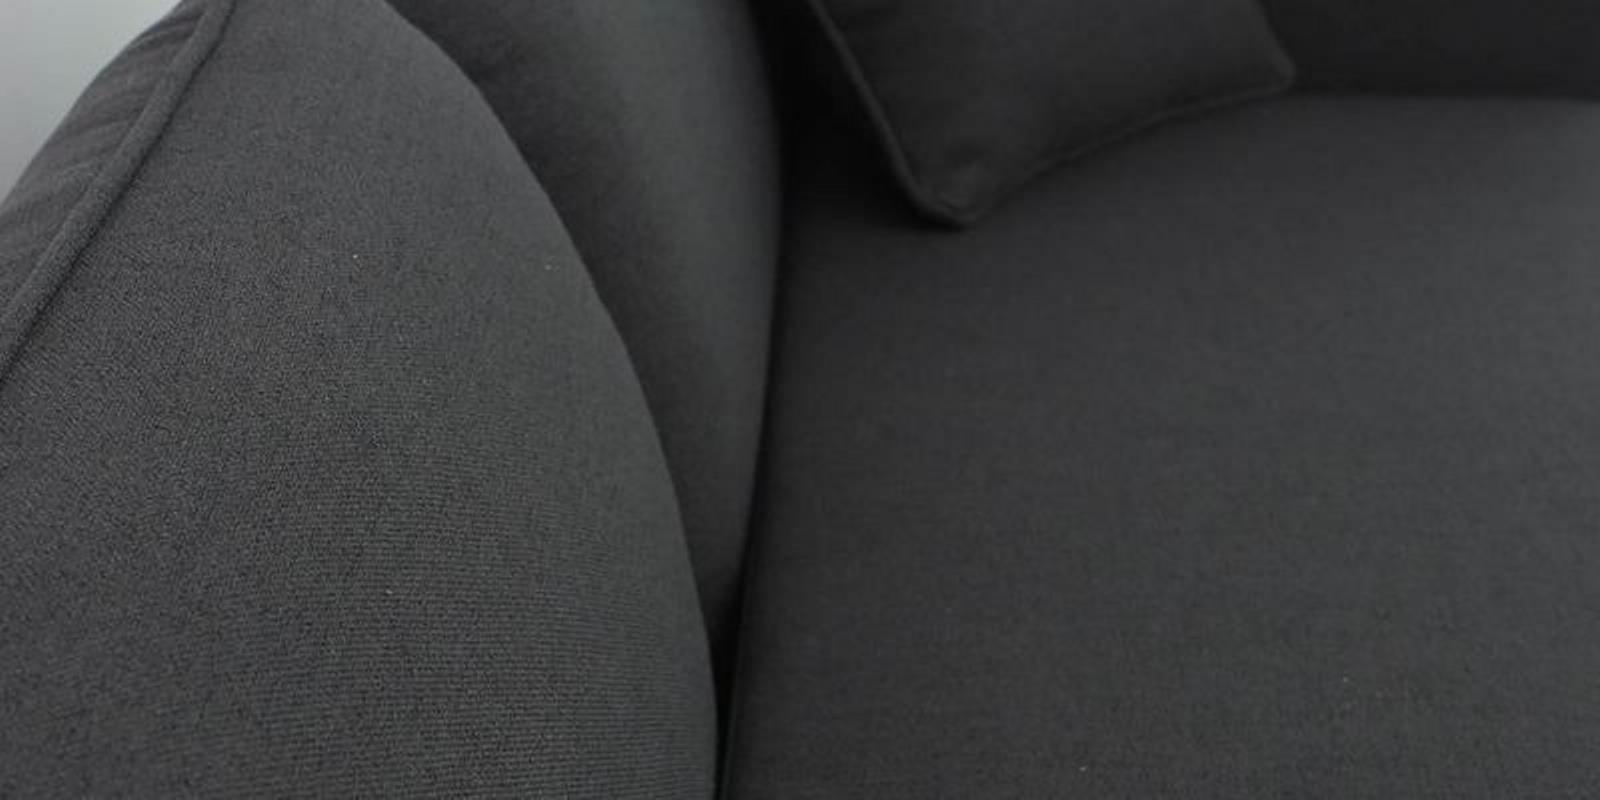Gloria Three Seater Sofa with Ottoman in Grey Colour by CasaCraft: (3, 6, 1586, 800)
